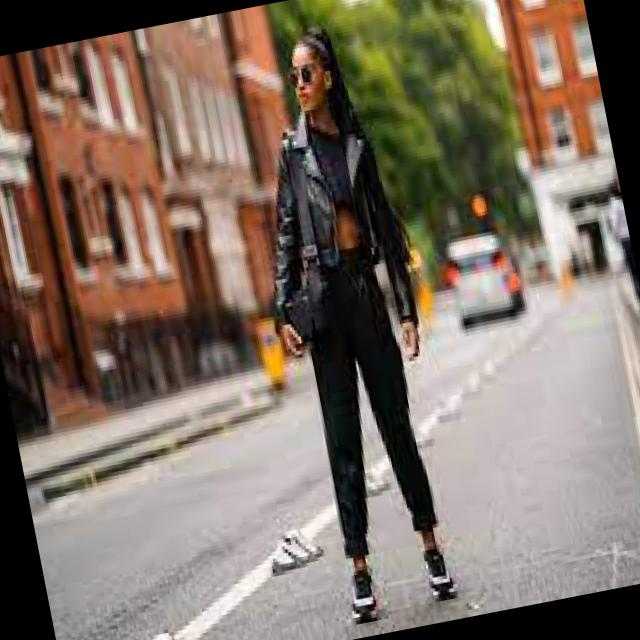Jacket: (223, 95, 436, 386)
